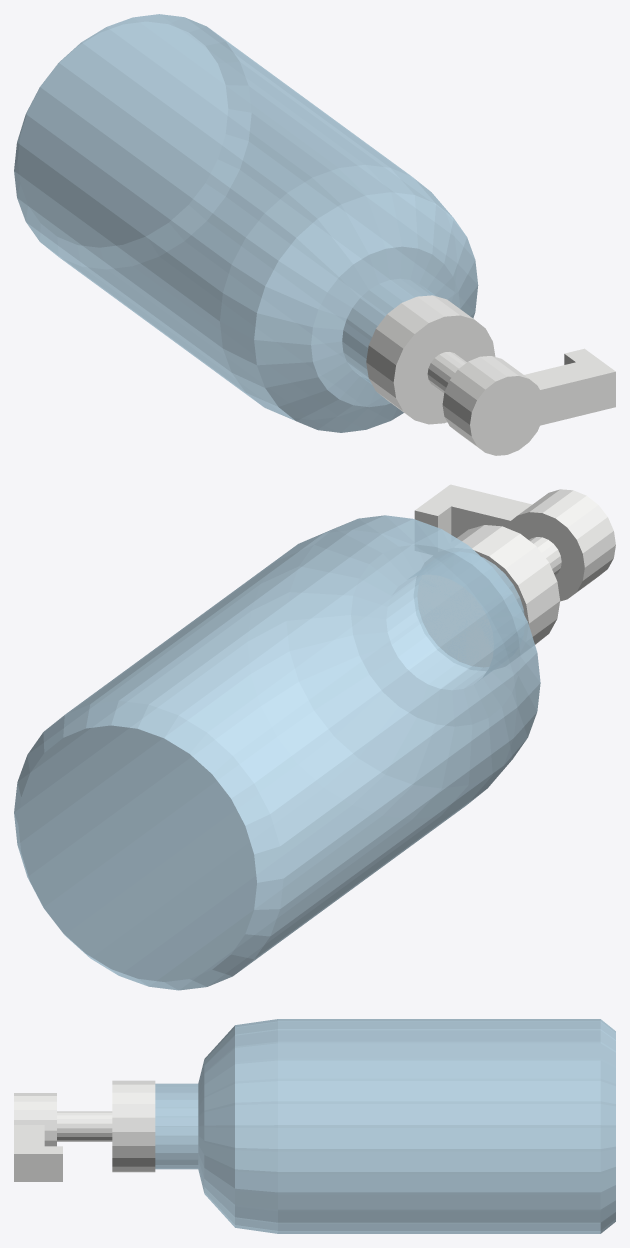
File: alcool_em_gel_500ml.obj
The picture shows the model from 3 angles, top to bottom: view 1: azimuth 30°, elevation 25°; view 2: azimuth 150°, elevation 25°; view 3: azimuth 270°, elevation 25°; orthographic projection. The views are drawn at different scales.
Visible parts, largest first — view 1: alcool_em_gel_500ml_frasco, alcool_em_gel_500ml_pump; view 2: alcool_em_gel_500ml_frasco, alcool_em_gel_500ml_pump; view 3: alcool_em_gel_500ml_frasco, alcool_em_gel_500ml_pump.
Part boxes in pixels (box(x1,y1,x2,y2)): alcool_em_gel_500ml_frasco: box(14, 14, 478, 432); alcool_em_gel_500ml_pump: box(366, 295, 615, 455); alcool_em_gel_500ml_frasco: box(14, 515, 540, 990); alcool_em_gel_500ml_pump: box(414, 484, 615, 667); alcool_em_gel_500ml_frasco: box(155, 1019, 615, 1233); alcool_em_gel_500ml_pump: box(14, 1080, 155, 1181).
Size of the model in its own units: 70 by 70 by 196.
